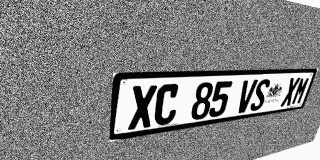5: (208, 81, 233, 118)
8: (189, 82, 215, 121)
C: (153, 84, 181, 126)
M: (291, 77, 310, 105)
S: (249, 79, 271, 112)
V: (235, 79, 258, 114)
X: (128, 85, 157, 130), (280, 77, 301, 107)
